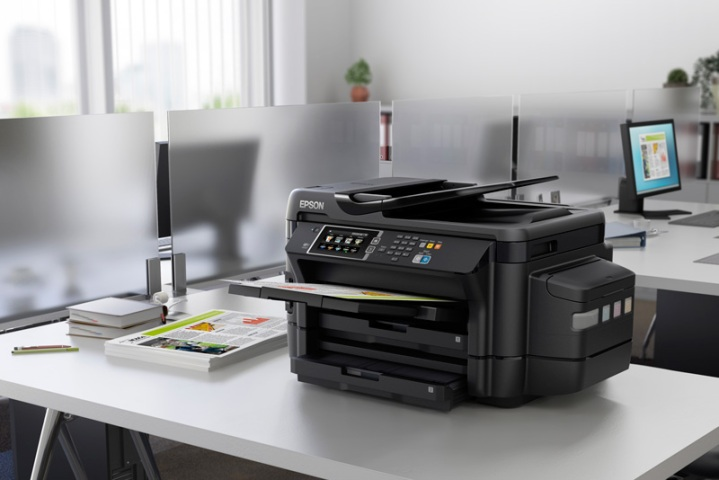printer: (263, 177, 636, 406)
